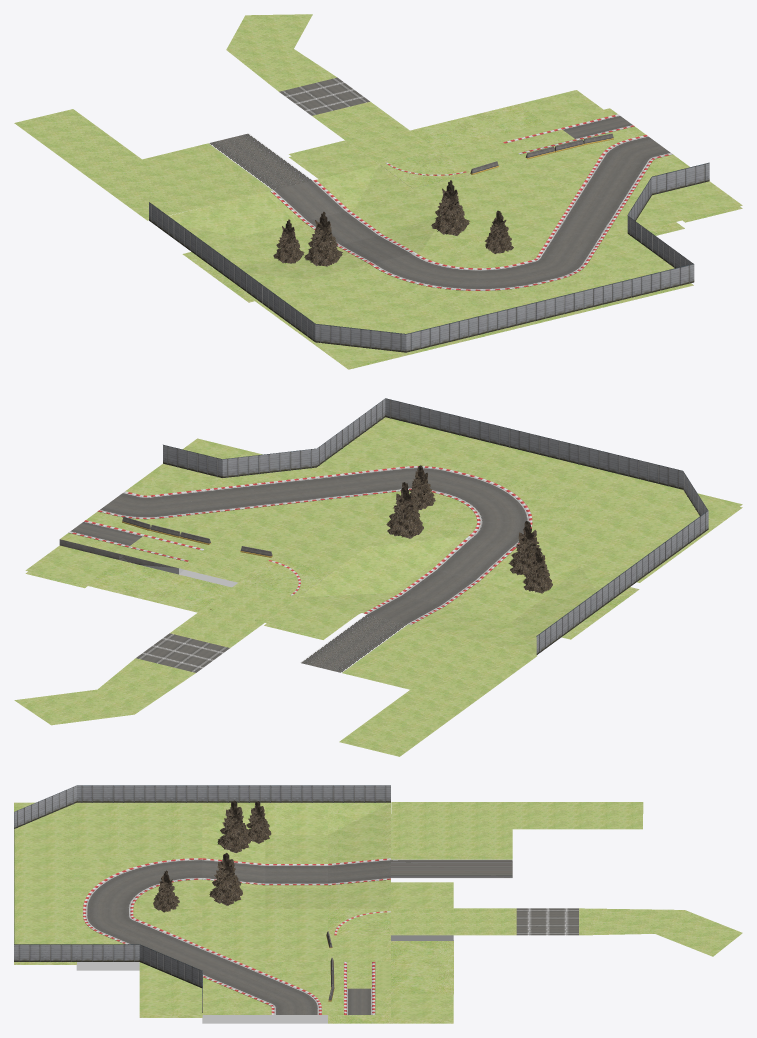
The model's file is map.obj.
The picture shows the model from 3 angles, top to bottom: view 1: azimuth 30°, elevation 25°; view 2: azimuth 150°, elevation 25°; view 3: azimuth 270°, elevation 25°; orthographic projection. The views are drawn at different scales.
Parts seen in each view (by area): view 1: map4; view 2: map4; view 3: map4.
Part boxes in pixels (x1,y1,x2,y2): map4: [14, 14, 742, 369]; map4: [14, 398, 742, 756]; map4: [14, 785, 742, 1023].
Bounding box in the file's own units: 519 × 78.21 × 750.
Materials: 9 (8 with a texture image).
